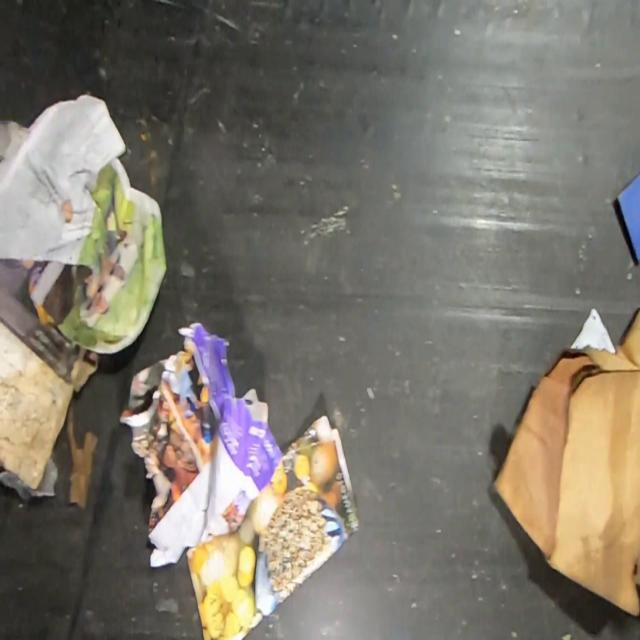cardboard: (490, 307, 639, 619), (0, 257, 103, 493)
rigid_plastic: (615, 173, 640, 266)
soft_plastic: (570, 307, 616, 353)
